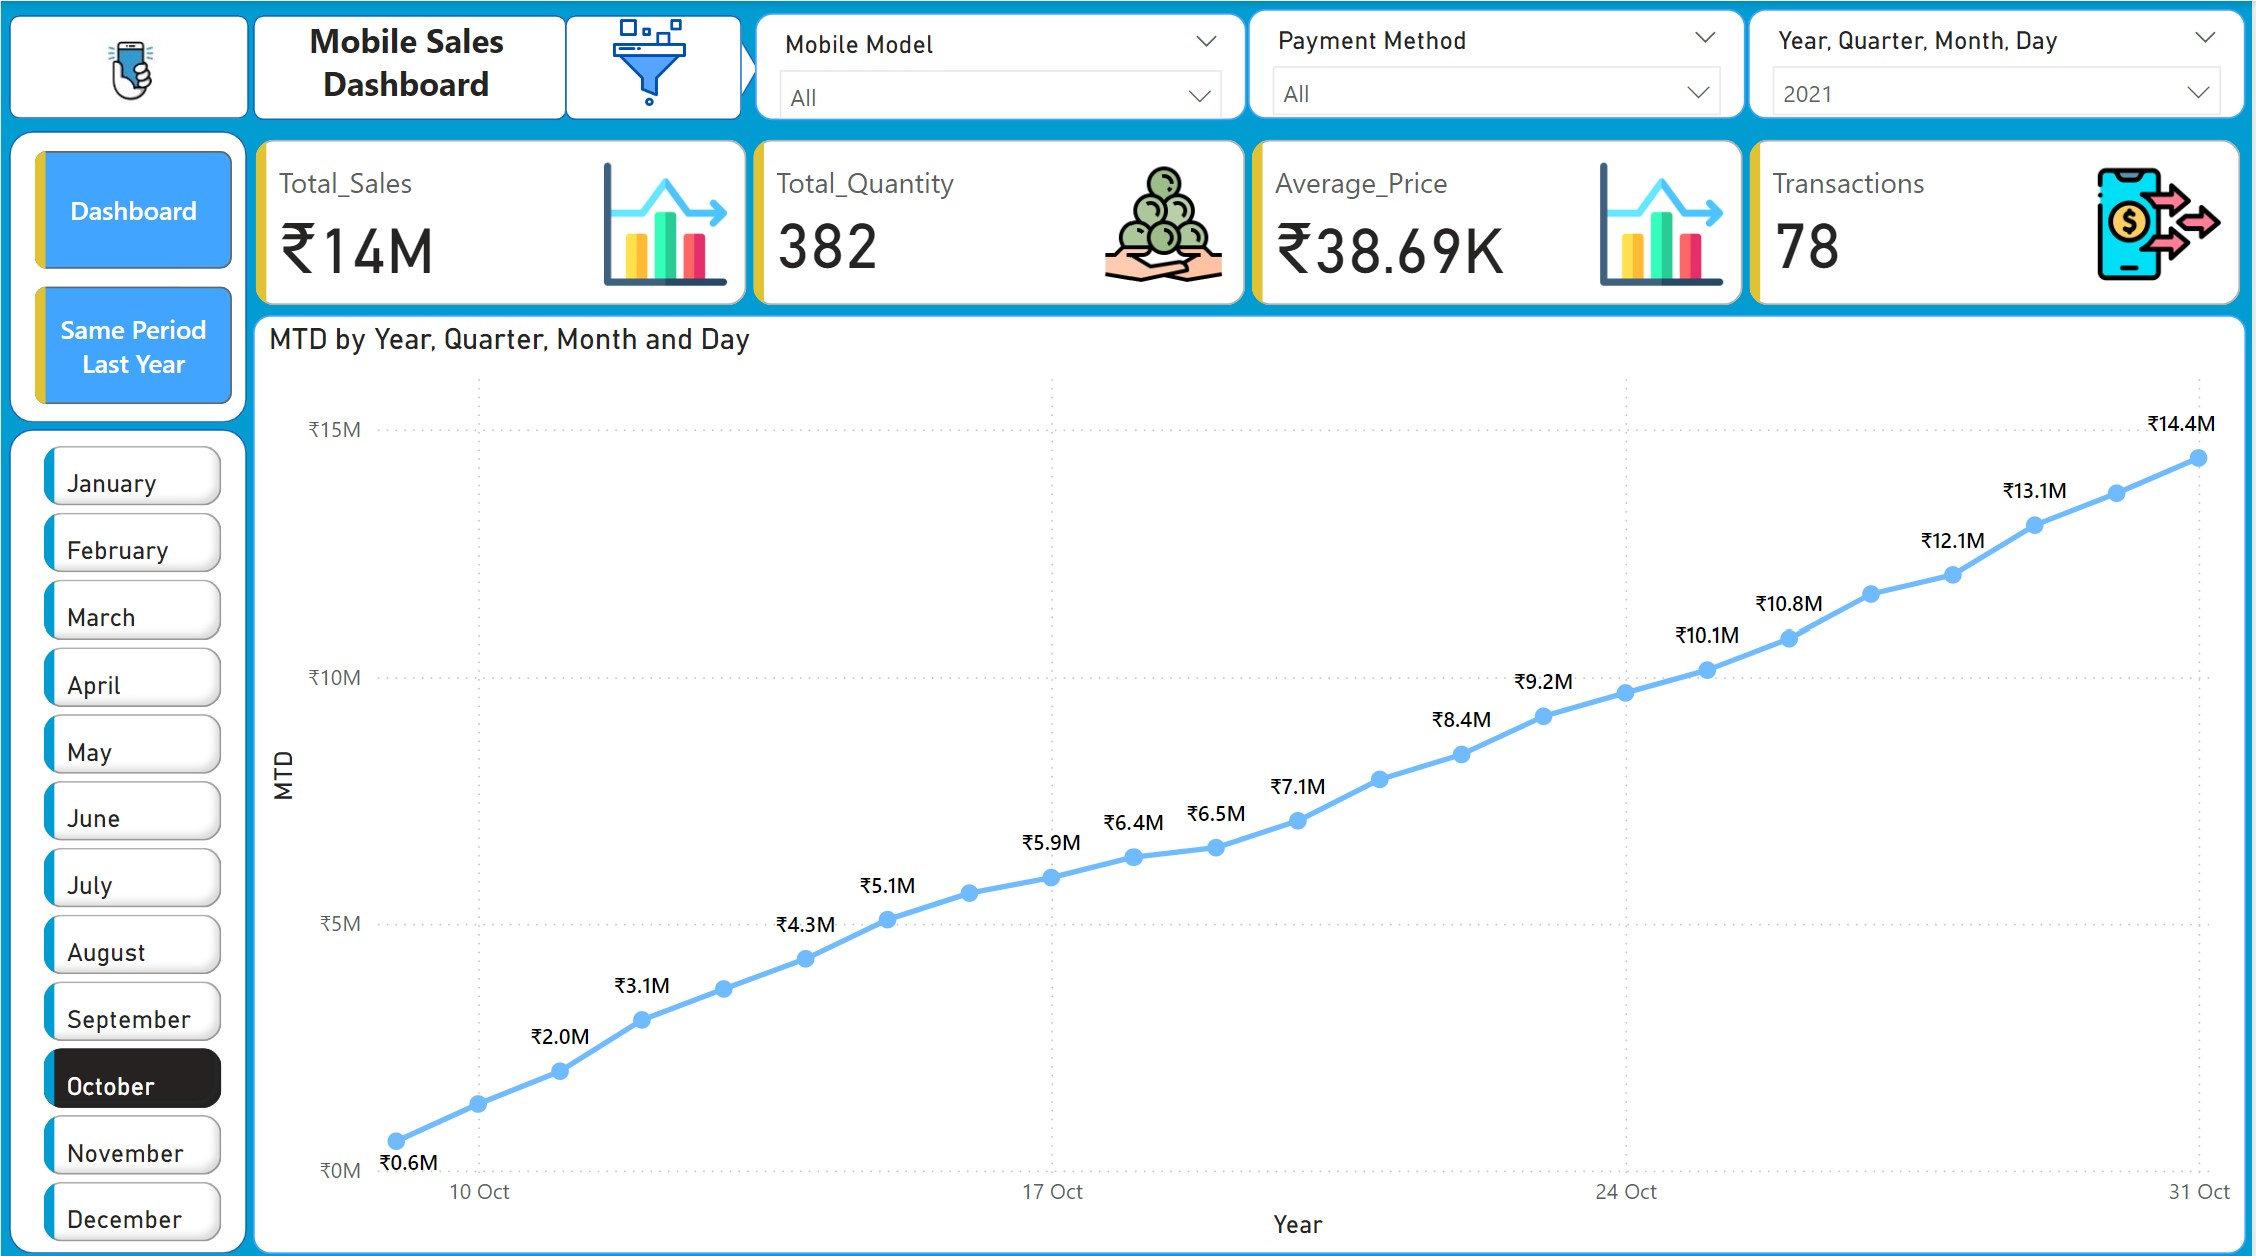

What the dashboard file says about the page in this screenshot:
{"tool":"powerbi","page":{"name":"MTD Report","canvas":[1280,720],"ordinal":1},"visuals":[{"type":"shape","box":[142.8,7.6,178.5,59.9],"z":0},{"type":"shape","box":[400.3,12.7,30.6,52.3],"z":1000},{"type":"shape","box":[321.3,7.6,100.7,59.9],"z":2000},{"type":"shape","box":[4.5,8,136.5,59.1],"z":3000},{"type":"image","box":[26.8,12.7,94.3,52.3],"z":4000},{"type":"shape","box":[4.5,73.9,135.4,166.1],"z":5000},{"type":"cardVisual","fields":{"Data":["Sales Data.Total_Sales","Sales Data.Total_Quantity","Sales Data.Average_Price","Sales Data.Transactions"]},"box":[140.2,73.9,1139.8,104.5],"z":6000},{"type":"slicer","fields":{"Values":["Sales Data.Mobile Model"]},"box":[428.4,6.4,279.2,61.2],"z":7000},{"type":"slicer","fields":{"Values":["Sales Data.Payment Method"]},"box":[708.8,5.1,283,62.5],"z":8000},{"type":"slicer","fields":{"Values":["Custom_Calendar.Date.Variation.Date Hierarchy.Year","Custom_Calendar.Date.Variation.Date Hierarchy.Quarter","Custom_Calendar.Date.Variation.Date Hierarchy.Month","Custom_Calendar.Date.Variation.Date Hierarchy.Day"]},"box":[993.1,5.1,283,62.5],"z":9000},{"type":"image","box":[321.3,5.1,95.6,61.2],"z":10000},{"type":"textbox","box":[140.2,5.1,181,63.7],"z":11000},{"type":"lineChart","fields":{"Y":["Sales Data.MTD"],"Category":["Custom_Calendar.Date.Variation.Date Hierarchy.Year","Custom_Calendar.Date.Variation.Date Hierarchy.Quarter","Custom_Calendar.Date.Variation.Date Hierarchy.Month","Custom_Calendar.Date.Variation.Date Hierarchy.Day"]},"box":[143.3,178.6,1132.9,533.5],"z":12000},{"type":"shape","box":[4.5,243.4,135.4,468.6],"z":13000},{"type":"advancedSlicerVisual","fields":{"Values":["Custom_Calendar.Date.Variation.Date Hierarchy.Month"]},"box":[19.3,248,111.5,468.6],"z":14000},{"type":"pageNavigator","box":[19.1,85.4,112.2,145.3],"z":14001}]}

Visuals, with their boxes in screenshot pixels (x1, y1, x2, y2), scaled from the page's 1280x720 canvas onto the 2256x1256 screenshot:
shape: {"left": 252, "top": 13, "right": 566, "bottom": 118}
shape: {"left": 706, "top": 22, "right": 759, "bottom": 113}
shape: {"left": 566, "top": 13, "right": 744, "bottom": 118}
shape: {"left": 8, "top": 14, "right": 249, "bottom": 117}
image: {"left": 47, "top": 22, "right": 213, "bottom": 113}
shape: {"left": 8, "top": 129, "right": 247, "bottom": 419}
cardVisual - Sales Data.Total_Sales x Sales Data.Total_Quantity: {"left": 247, "top": 129, "right": 2255, "bottom": 311}
slicer - Sales Data.Mobile Model: {"left": 755, "top": 11, "right": 1247, "bottom": 118}
slicer - Sales Data.Payment Method: {"left": 1249, "top": 9, "right": 1748, "bottom": 118}
slicer - Custom_Calendar.Date.Variation.Date Hierarchy.Year x Custom_Calendar.Date.Variation.Date Hierarchy.Quarter: {"left": 1750, "top": 9, "right": 2249, "bottom": 118}
image: {"left": 566, "top": 9, "right": 735, "bottom": 116}
textbox: {"left": 247, "top": 9, "right": 566, "bottom": 120}
lineChart - Sales Data.MTD x Custom_Calendar.Date.Variation.Date Hierarchy.Year: {"left": 253, "top": 312, "right": 2249, "bottom": 1242}
shape: {"left": 8, "top": 425, "right": 247, "bottom": 1242}
advancedSlicerVisual - Custom_Calendar.Date.Variation.Date Hierarchy.Month: {"left": 34, "top": 433, "right": 231, "bottom": 1250}
pageNavigator: {"left": 34, "top": 149, "right": 231, "bottom": 402}
